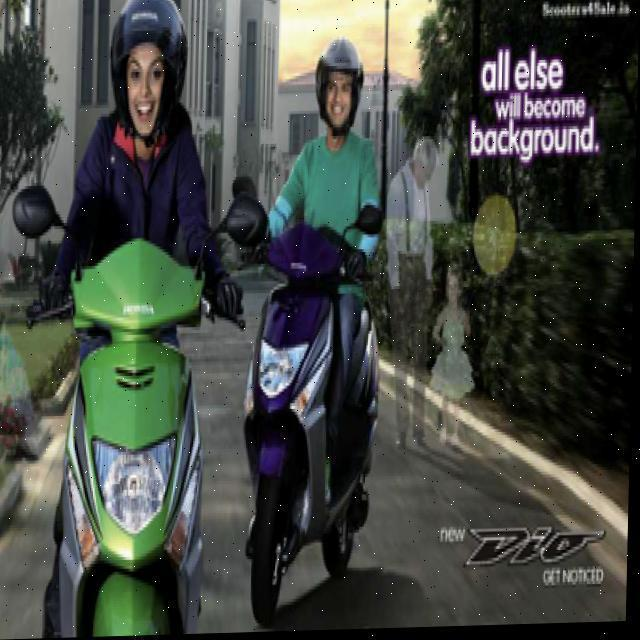Helmet: (98, 1, 194, 135), (313, 30, 369, 136)
